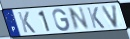1: (38, 10, 51, 33)
G: (52, 8, 71, 32)
K: (86, 7, 106, 30), (17, 12, 37, 34)
N: (67, 6, 91, 32)
V: (100, 4, 119, 29)
